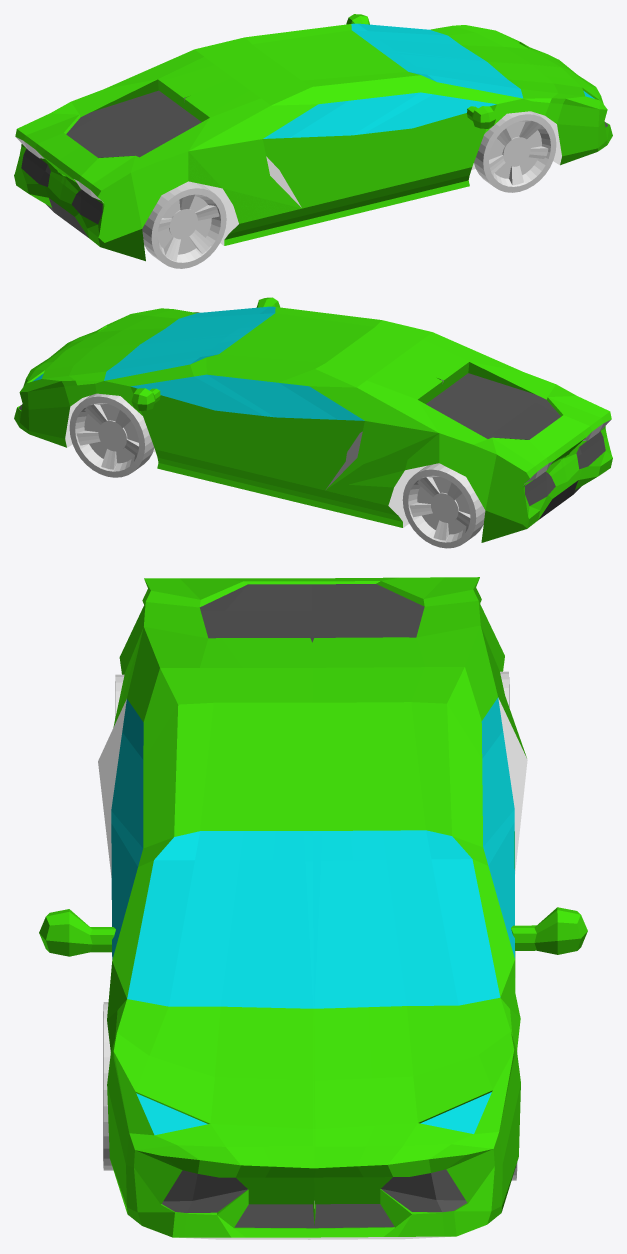
Rendered from lamborghini.fbx.
The picture shows the model from 3 angles, top to bottom: view 1: azimuth 30°, elevation 25°; view 2: azimuth 150°, elevation 25°; view 3: azimuth 270°, elevation 25°; orthographic projection. The views are drawn at different scales.
Parts seen in each view (by area): view 1: Circle, Cylinder.002, Cylinder.003; view 2: Circle, Cylinder.004, Cylinder.005; view 3: Circle, Cylinder.003.
Boxes of the visible parts, x1,y1,x2,y2 form: Circle: (14, 14, 612, 261); Cylinder.002: (142, 181, 226, 268); Cylinder.003: (474, 111, 556, 192); Circle: (14, 297, 612, 542); Cylinder.004: (69, 393, 154, 477); Cylinder.005: (402, 463, 485, 548); Circle: (39, 577, 587, 1239); Cylinder.003: (103, 1002, 113, 1170).
Size of the model in its own units: 856 by 221 by 388.
